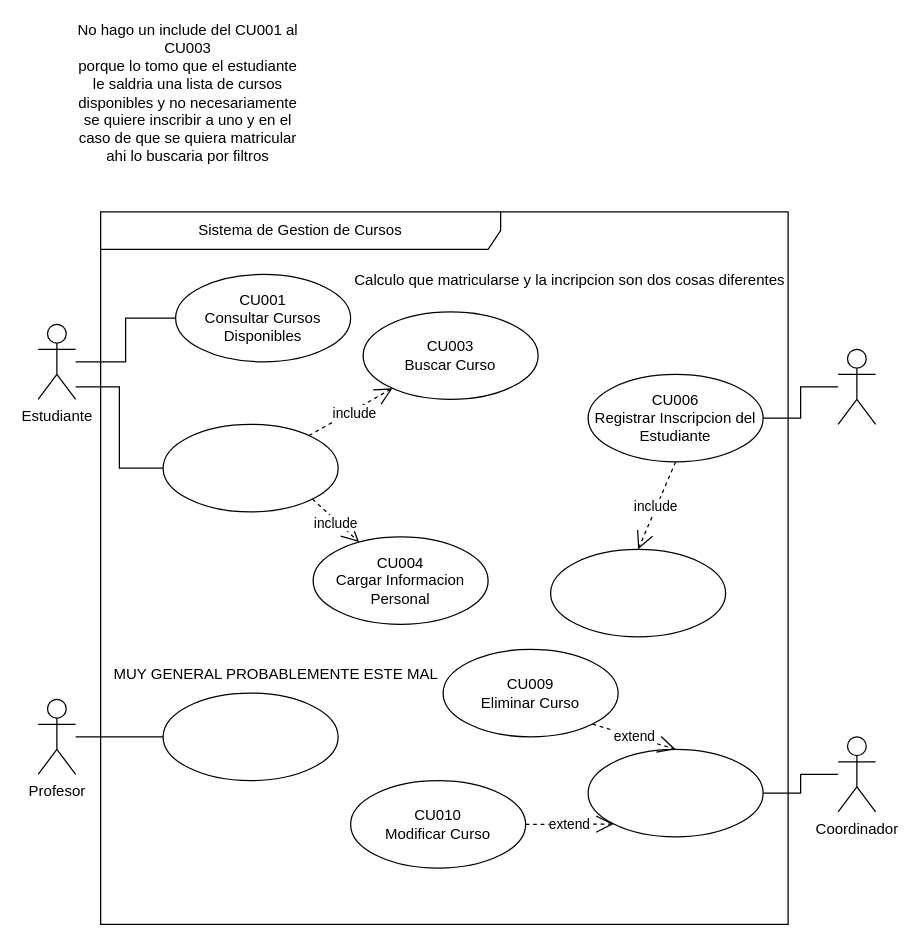
Some shapes in this 920 by 946 pixel diagram are drawn without their labels. The shapes that lost their labels are listed below. From the top down, each one's centre as x and y in pixels, then its label:
point (856, 386): Secretaria
point (250, 467): CU002 Matricularse Al Curso
point (637, 592): CU005 Registrar Secretaria
point (250, 736): CU007 Cargar Informacion del Curso
point (675, 792): CU008 Gestionar Cursos
